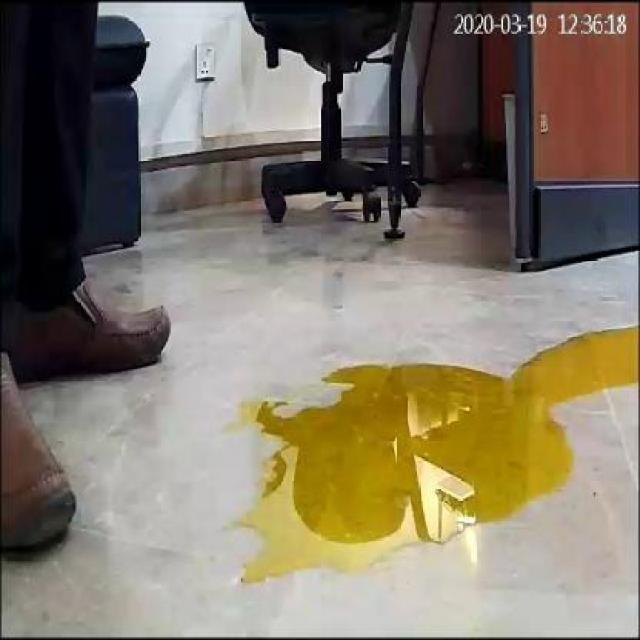spill: (242, 327, 636, 576)
